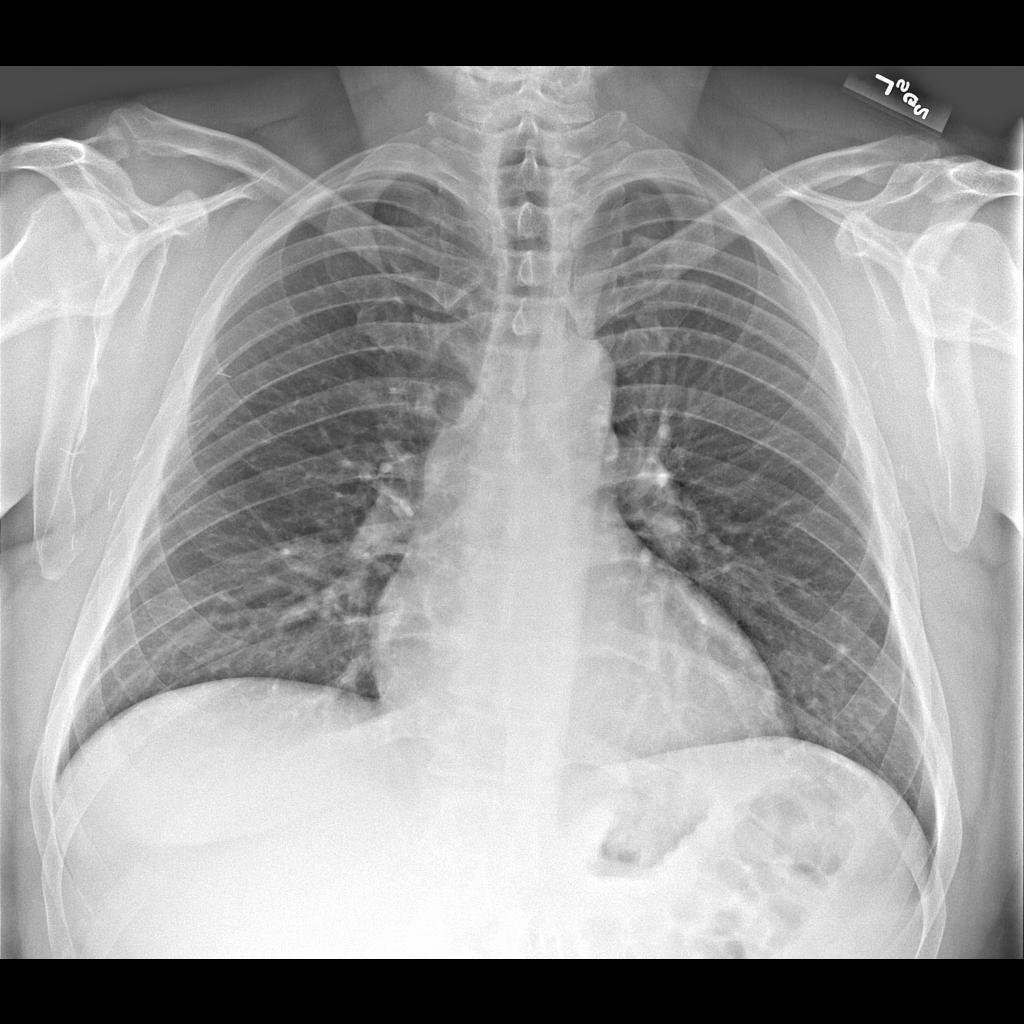Nodule: (271, 528, 336, 587)
